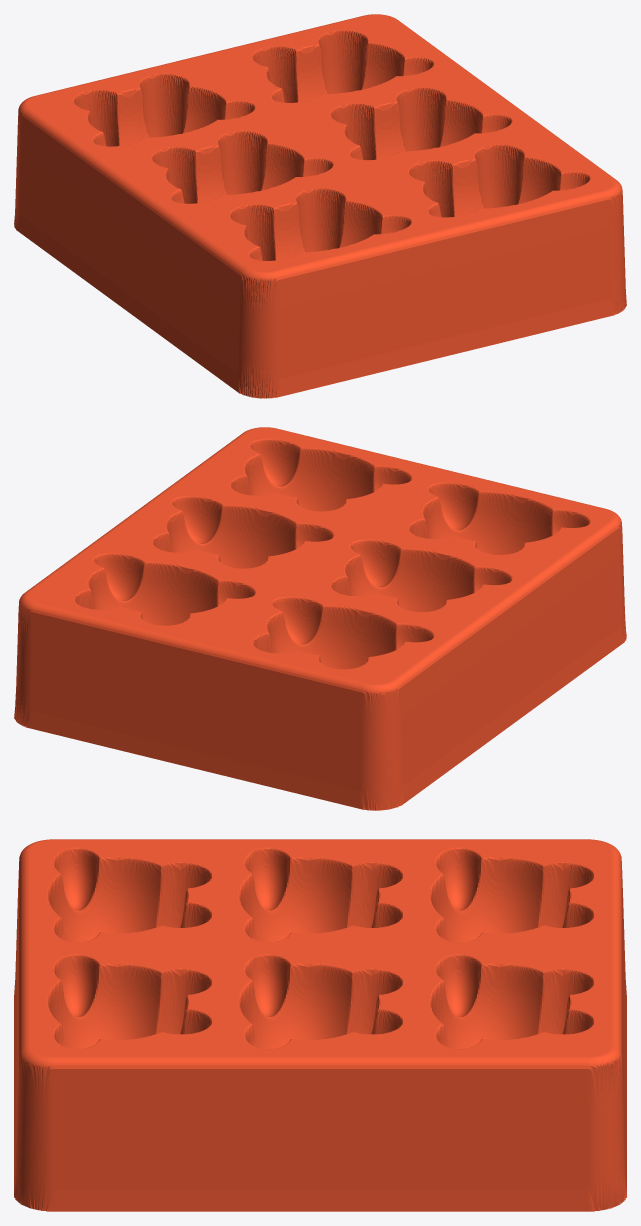
Rendered from mold.glb.
The picture shows the model from 3 angles, top to bottom: view 1: azimuth 30°, elevation 25°; view 2: azimuth 150°, elevation 25°; view 3: azimuth 270°, elevation 25°; orthographic projection. The views are drawn at different scales.
Parts seen in each view (by area): view 1: geometry_0; view 2: geometry_0; view 3: geometry_0.
Part boxes in pixels (x1=…): geometry_0: x1=14, y1=14, x2=626, y2=398; geometry_0: x1=14, y1=427, x2=626, y2=810; geometry_0: x1=14, y1=839, x2=626, y2=1211.
Bounding box in the file's own units: 0.1252 × 0.0376 × 0.1411.
